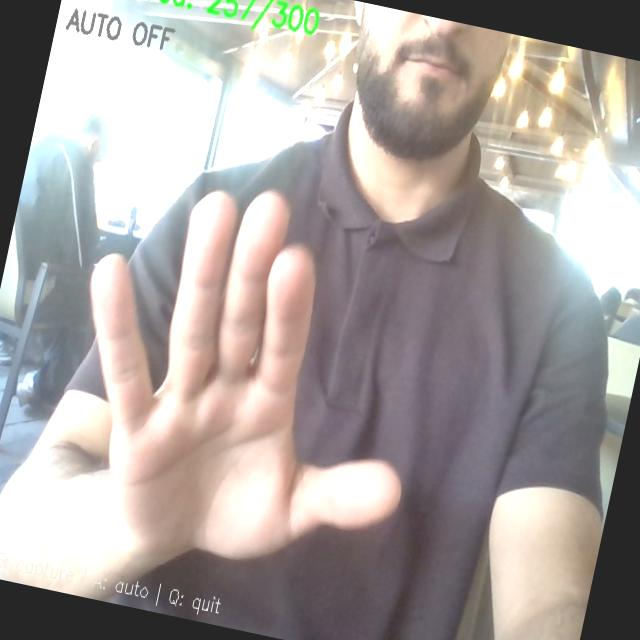Hand: (92, 192, 400, 558)
